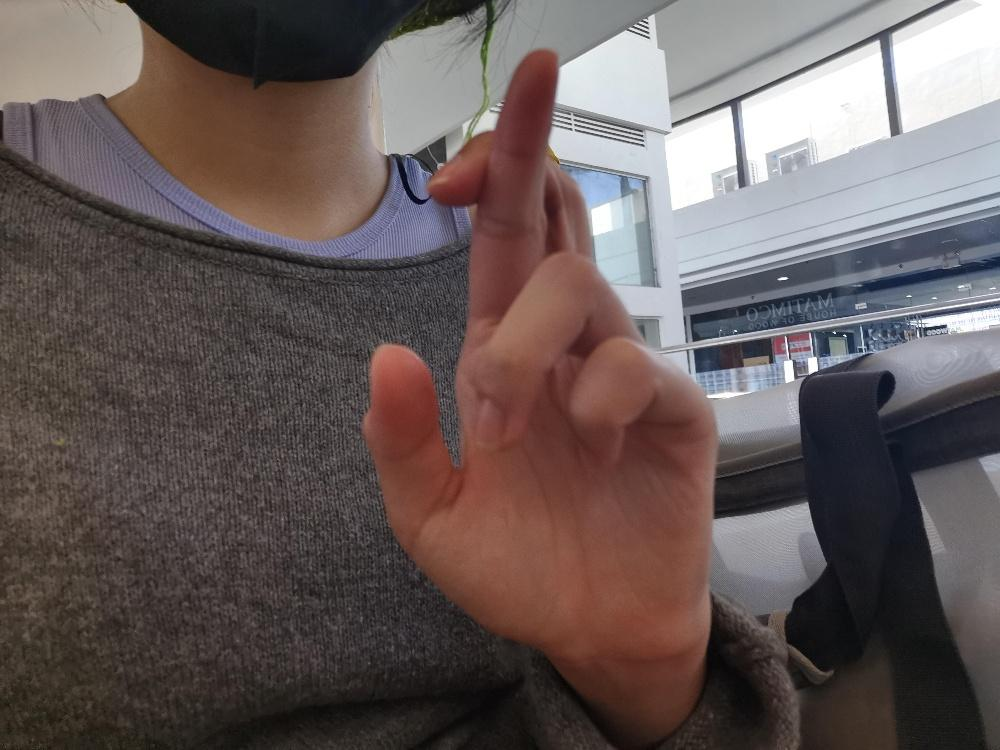r: (358, 46, 720, 657)
